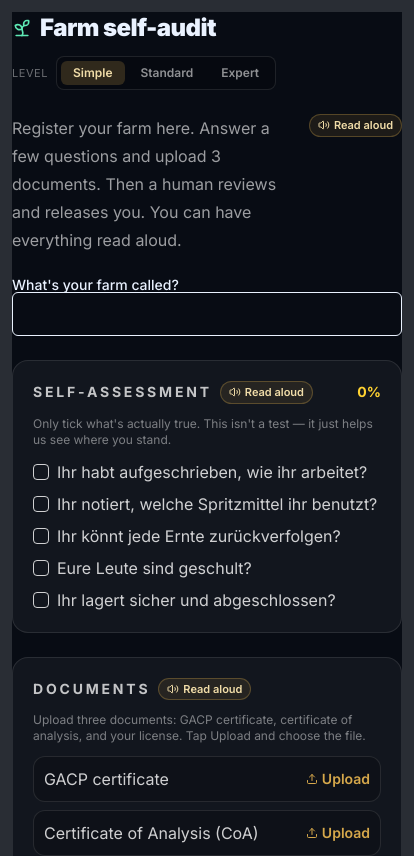
Test: FarmSelfAudit guidance level › drops inline help at the expert level
Expected: the text "Only tick what's actually true" is shown, [33, 416, 373, 446]
Click the button "Expert". click: (240, 73)
box: [209, 61, 271, 85]
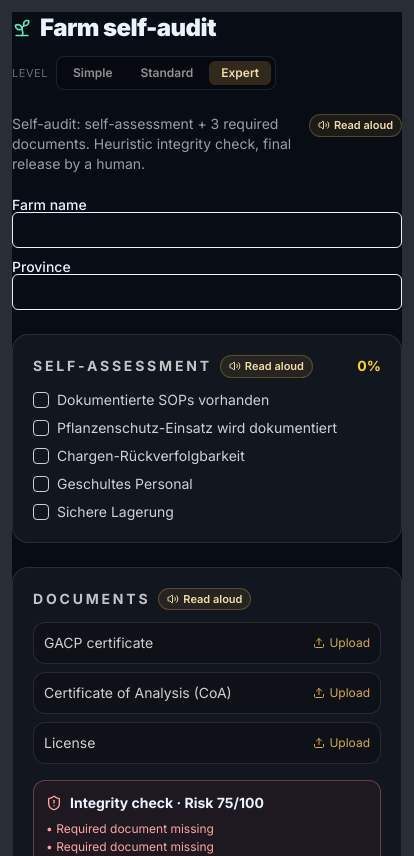
Now the text "Only tick what's actually true" is gone
